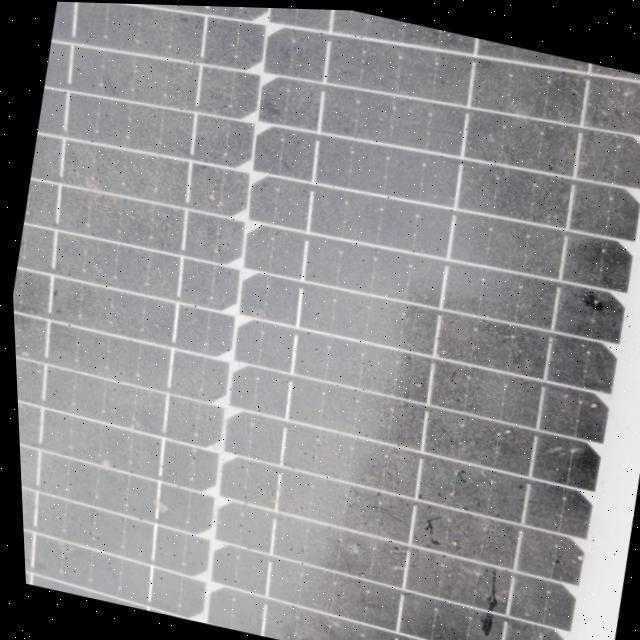Surface Contaminant: (11, 1, 640, 640)
